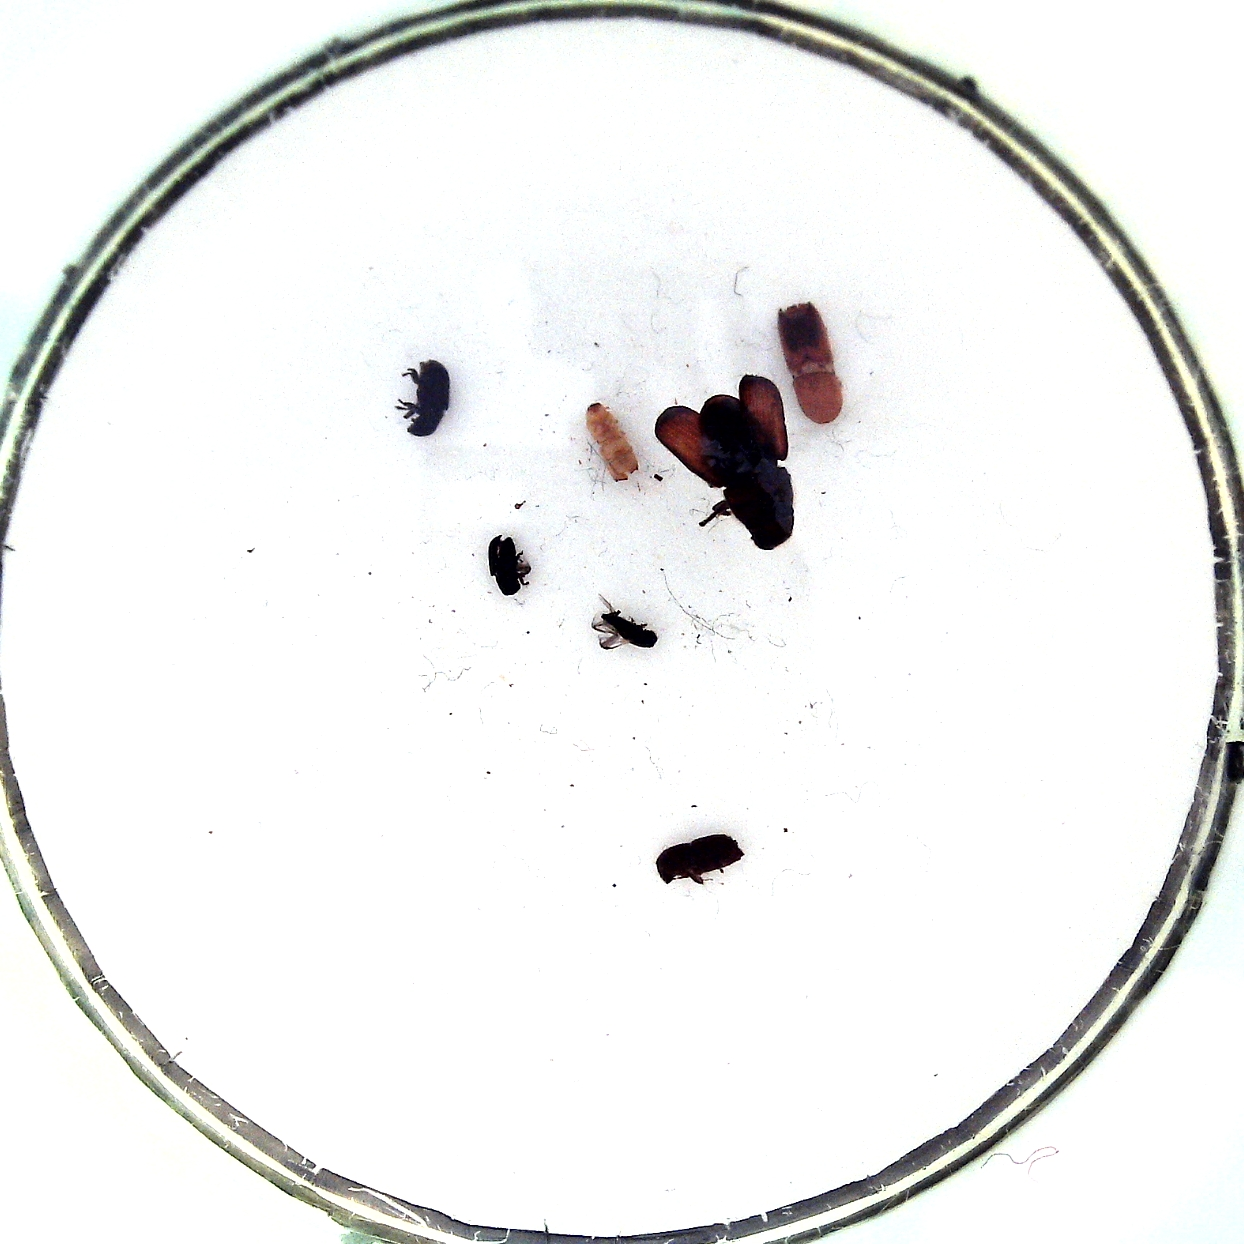Boerner: (778, 302, 843, 424)
Leconte: (698, 394, 794, 550)
acuminatus: (599, 613, 657, 650)
armandi: (406, 359, 451, 437)
coleoptera: (488, 535, 524, 596)
linnaeus: (656, 834, 744, 885), (587, 404, 639, 480)
